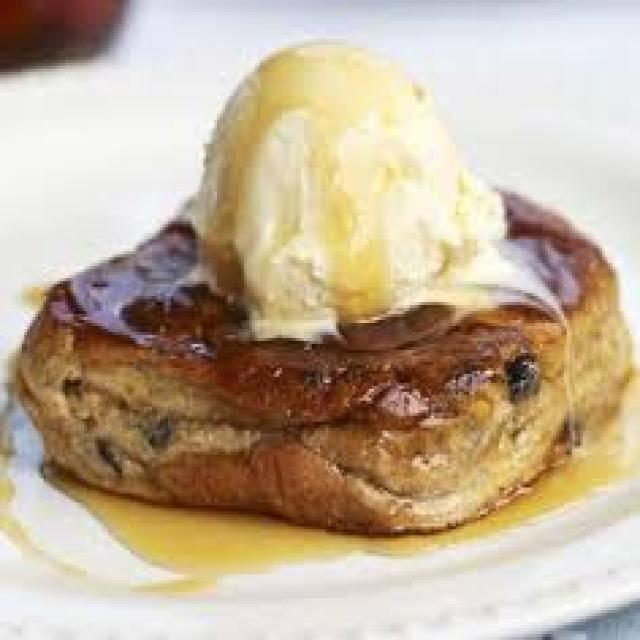food_waste: (14, 42, 629, 529)
